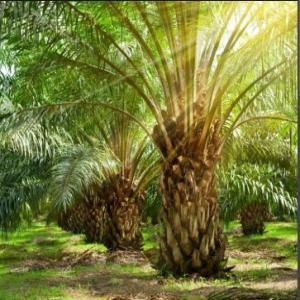palm tree: (0, 0, 299, 278)
